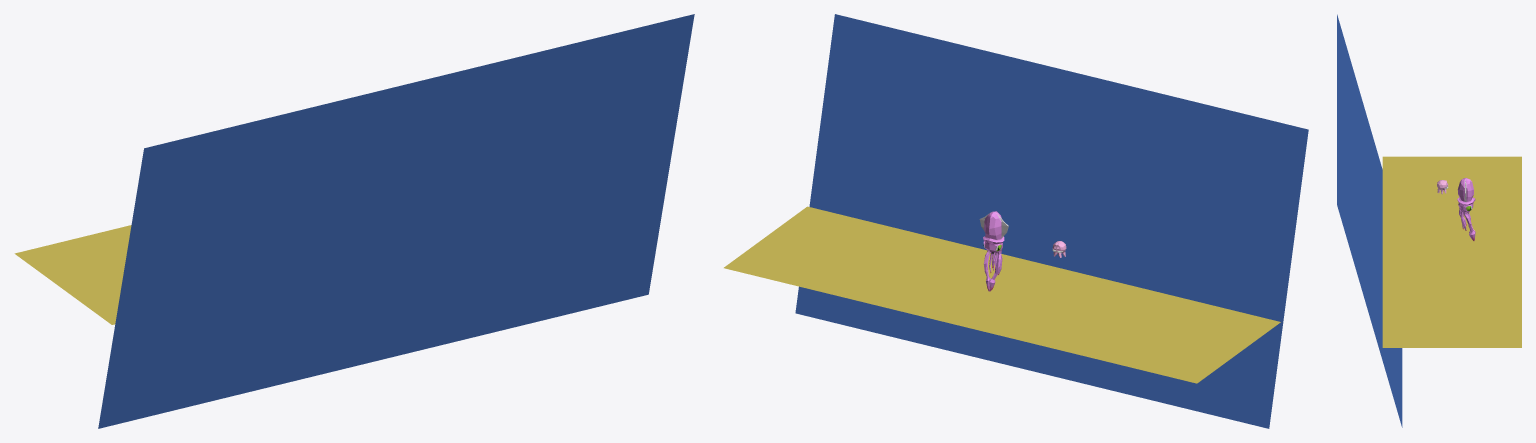
File: Bork.fbx
The picture shows the model from 3 angles, left to right: view 1: azimuth 30°, elevation 25°; view 2: azimuth 150°, elevation 25°; view 3: azimuth 270°, elevation 25°; orthographic projection. The views are drawn at different scales.
Visible parts, largest first — view 1: Plane.001, Plane; view 2: Plane.001, Plane, babySquid; view 3: Plane, Plane.001, babySquid.
Part boxes in pixels (x1=…): Plane.001: x1=98, y1=14, x2=694, y2=428; Plane: x1=14, y1=225, x2=131, y2=324; Plane.001: x1=795, y1=14, x2=1308, y2=428; Plane: x1=724, y1=206, x2=1280, y2=383; babySquid: x1=979, y1=211, x2=1008, y2=291; Plane: x1=1382, y1=156, x2=1521, y2=347; Plane.001: x1=1337, y1=14, x2=1402, y2=427; babySquid: x1=1457, y1=178, x2=1475, y2=240.
Bounding box in the file's own units: 77.95 × 42.51 × 31.82.
